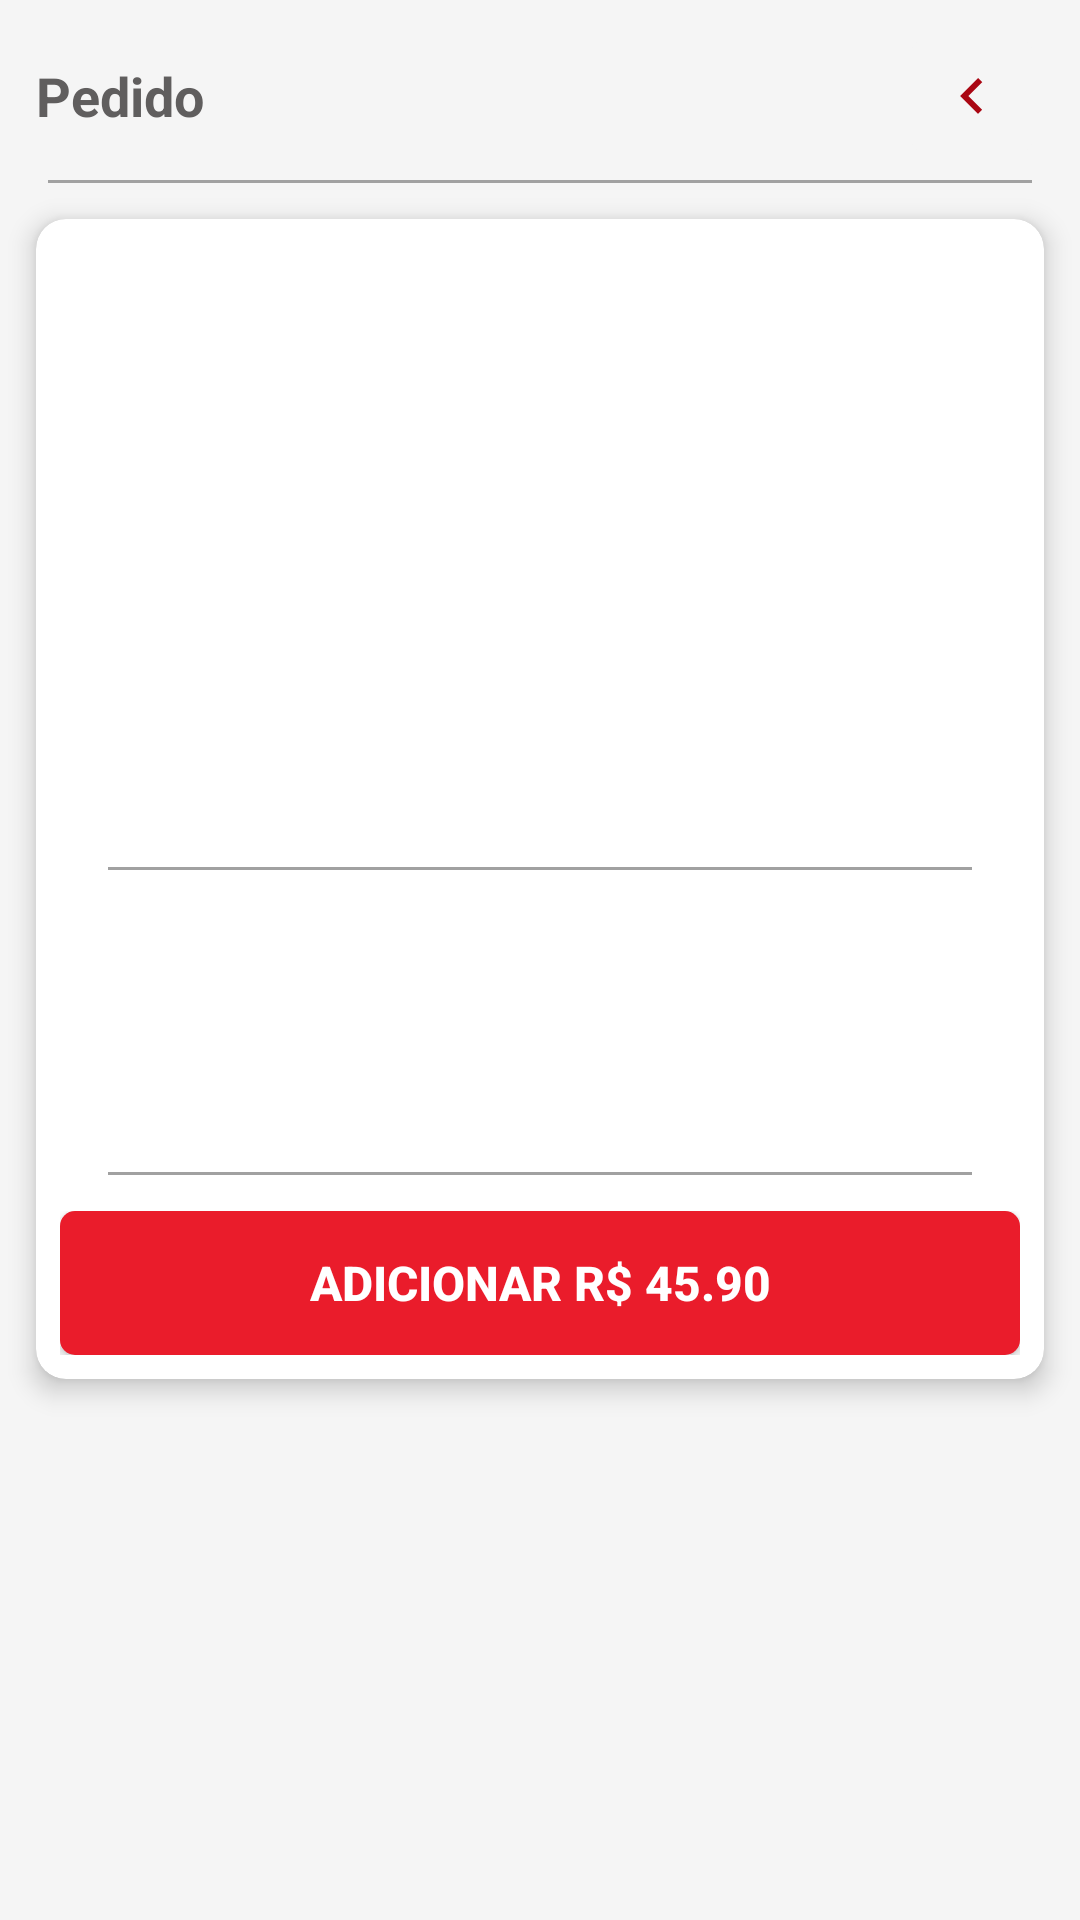

Named icons in this screenshot (1080px x 1920px) and their centers, (x,y):
Voltar: (971,96)
